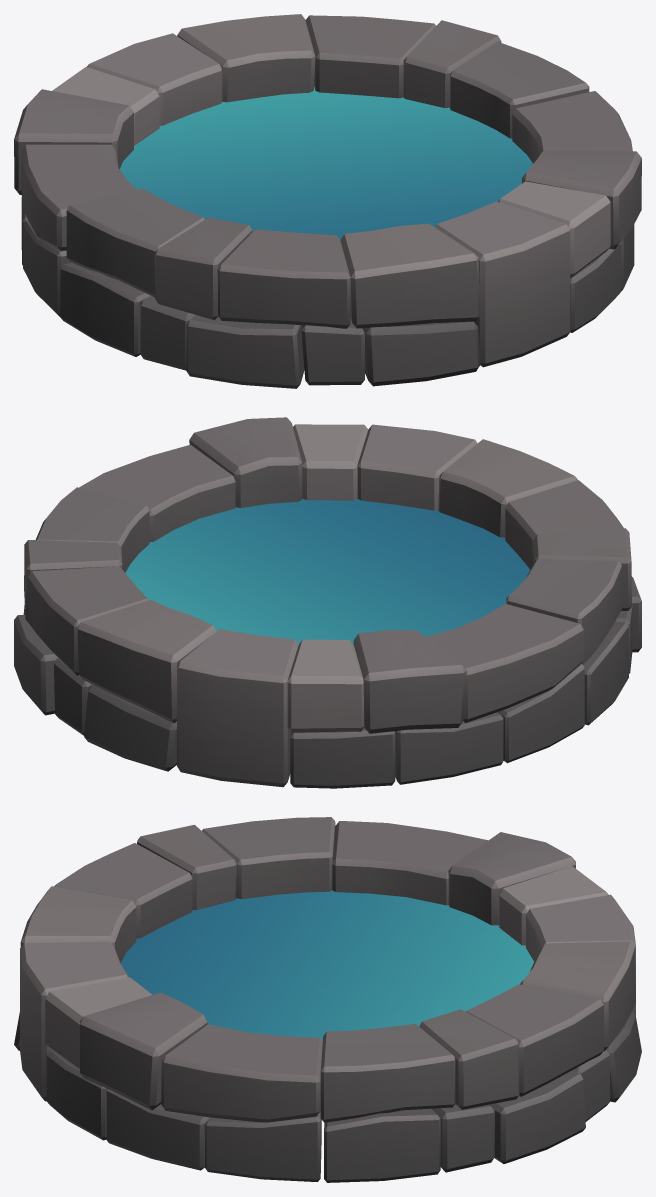
The model's file is elf_fountain.fbx.
3 views of the same model, one above another, from view 1: azimuth 30°, elevation 25°; view 2: azimuth 150°, elevation 25°; view 3: azimuth 270°, elevation 25° (orthographic).
Visible parts, largest first — view 1: elf_fountain; view 2: elf_fountain; view 3: elf_fountain.
Boxes of the visible parts, x1,y1,x2,y2 form: elf_fountain: (14, 14, 641, 388); elf_fountain: (14, 417, 641, 788); elf_fountain: (14, 817, 641, 1182).
Bounding box in the file's own units: 604 × 129 × 617.
